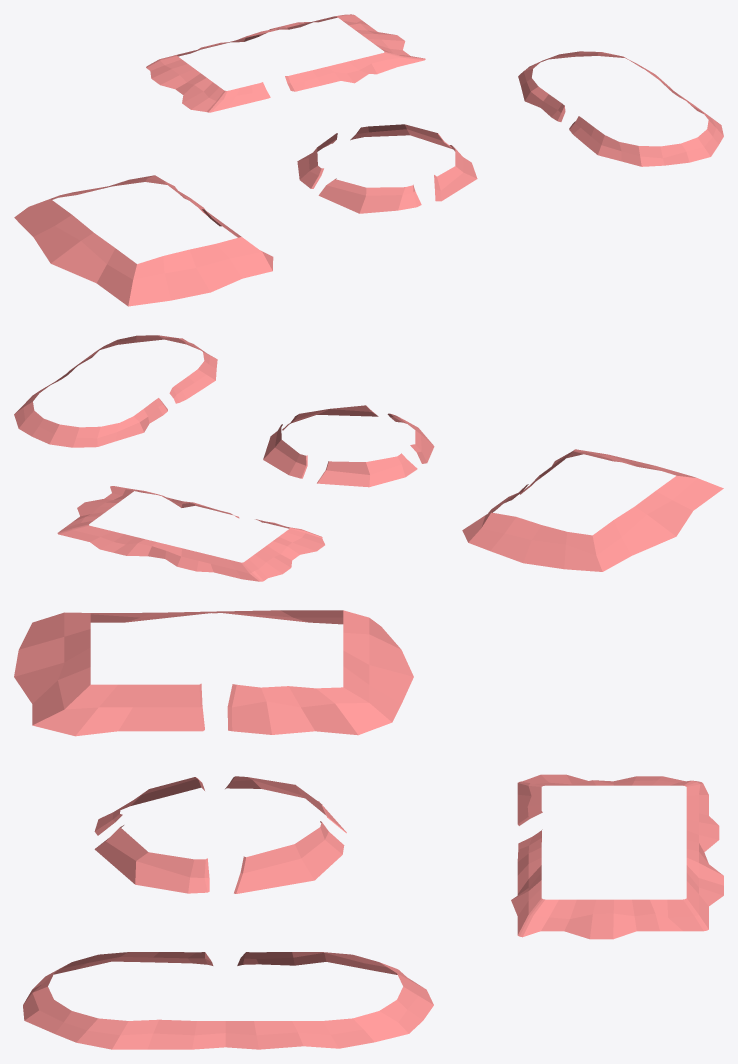
File: polvere_base.FBX
The picture shows the model from 3 angles, top to bottom: view 1: azimuth 30°, elevation 25°; view 2: azimuth 150°, elevation 25°; view 3: azimuth 270°, elevation 25°; orthographic projection. The views are drawn at different scales.
Parts seen in each view (by area): view 1: Object005; view 2: Object005; view 3: Object005.
Part boxes in pixels (x1,y1,x2,y2): Object005: (14,14,723,306); Object005: (14,335,723,581); Object005: (14,610,723,1049).
Size of the model in its own units: 6919 by 281 by 4595.
